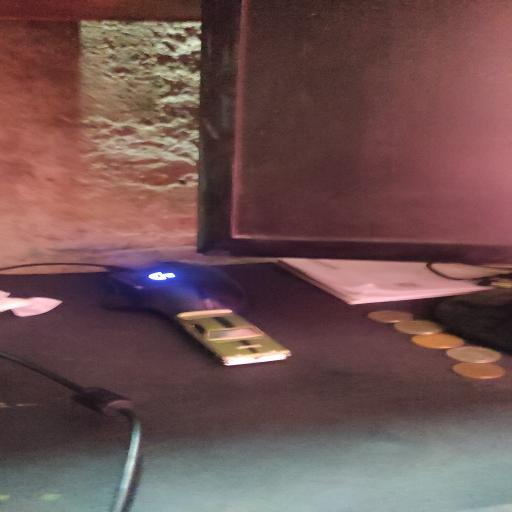Carrito: (175, 309, 291, 366)
